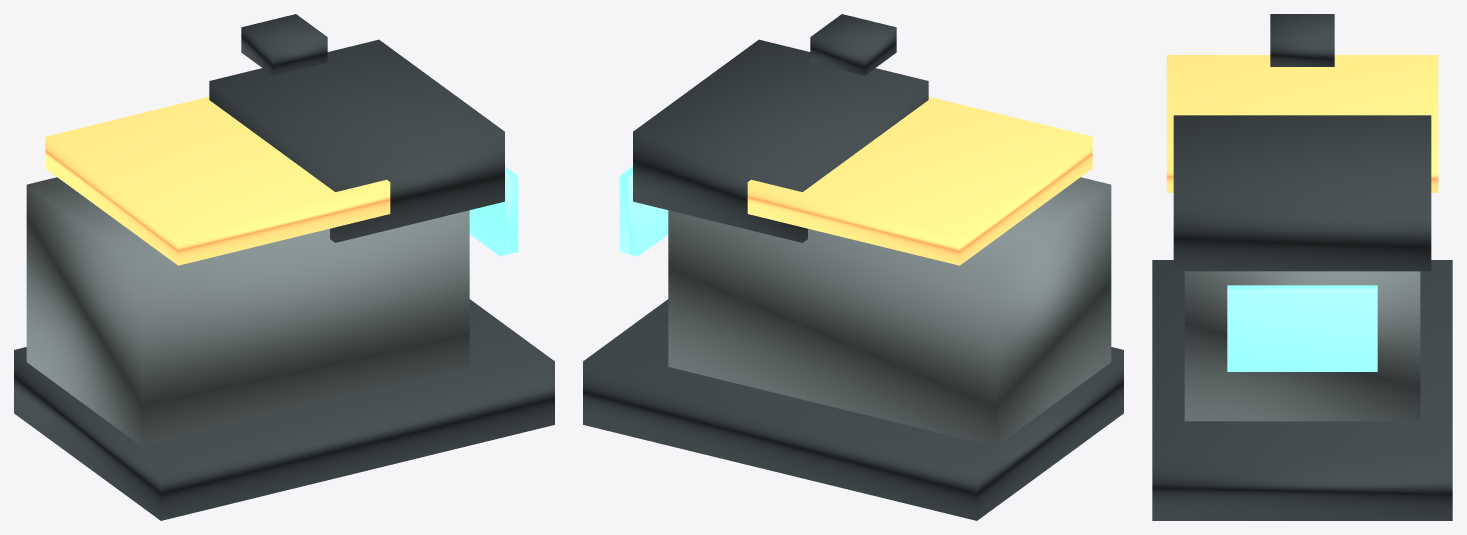
Rendered from spin-habitat-bearing-control-lod1.glb.
3 renders of one model, left to right at view 1: azimuth 30°, elevation 25°; view 2: azimuth 150°, elevation 25°; view 3: azimuth 270°, elevation 25°, orthographic. The views are drawn at different scales.
Visible parts, largest first — view 1: spin-habitat-bearing-control-cradle, spin-habitat-bearing-control-skid, spin-habitat-bearing-control-spindle, spin-habitat-bearing-control-restraint, objective-beacon-mount, spin-habitat-interactable-status; view 2: spin-habitat-bearing-control-cradle, spin-habitat-bearing-control-skid, spin-habitat-bearing-control-spindle, spin-habitat-bearing-control-restraint, objective-beacon-mount, spin-habitat-interactable-status; view 3: spin-habitat-bearing-control-spindle, spin-habitat-bearing-control-skid, spin-habitat-bearing-control-cradle, spin-habitat-bearing-control-restraint, spin-habitat-interactable-status, objective-beacon-mount.
Part boxes in pixels (x1=…): spin-habitat-bearing-control-cradle: x1=26, y1=177, x2=469, y2=446; spin-habitat-bearing-control-skid: x1=14, y1=299, x2=554, y2=520; spin-habitat-bearing-control-spindle: x1=209, y1=39, x2=504, y2=242; spin-habitat-bearing-control-restraint: x1=45, y1=97, x2=390, y2=265; objective-beacon-mount: x1=241, y1=14, x2=327, y2=75; spin-habitat-interactable-status: x1=469, y1=166, x2=518, y2=256; spin-habitat-bearing-control-cradle: x1=668, y1=177, x2=1111, y2=446; spin-habitat-bearing-control-skid: x1=583, y1=299, x2=1123, y2=520; spin-habitat-bearing-control-spindle: x1=633, y1=39, x2=928, y2=242; spin-habitat-bearing-control-restraint: x1=747, y1=97, x2=1092, y2=265; objective-beacon-mount: x1=810, y1=14, x2=896, y2=75; spin-habitat-interactable-status: x1=619, y1=166, x2=668, y2=256; spin-habitat-bearing-control-spindle: x1=1173, y1=115, x2=1431, y2=271; spin-habitat-bearing-control-skid: x1=1152, y1=260, x2=1452, y2=520; spin-habitat-bearing-control-cradle: x1=1184, y1=271, x2=1420, y2=421; spin-habitat-bearing-control-restraint: x1=1166, y1=55, x2=1438, y2=192; spin-habitat-interactable-status: x1=1227, y1=285, x2=1377, y2=371; objective-beacon-mount: x1=1270, y1=14, x2=1334, y2=66.
Bounding box in the file's own units: 1.31 × 1.22 × 0.84.
